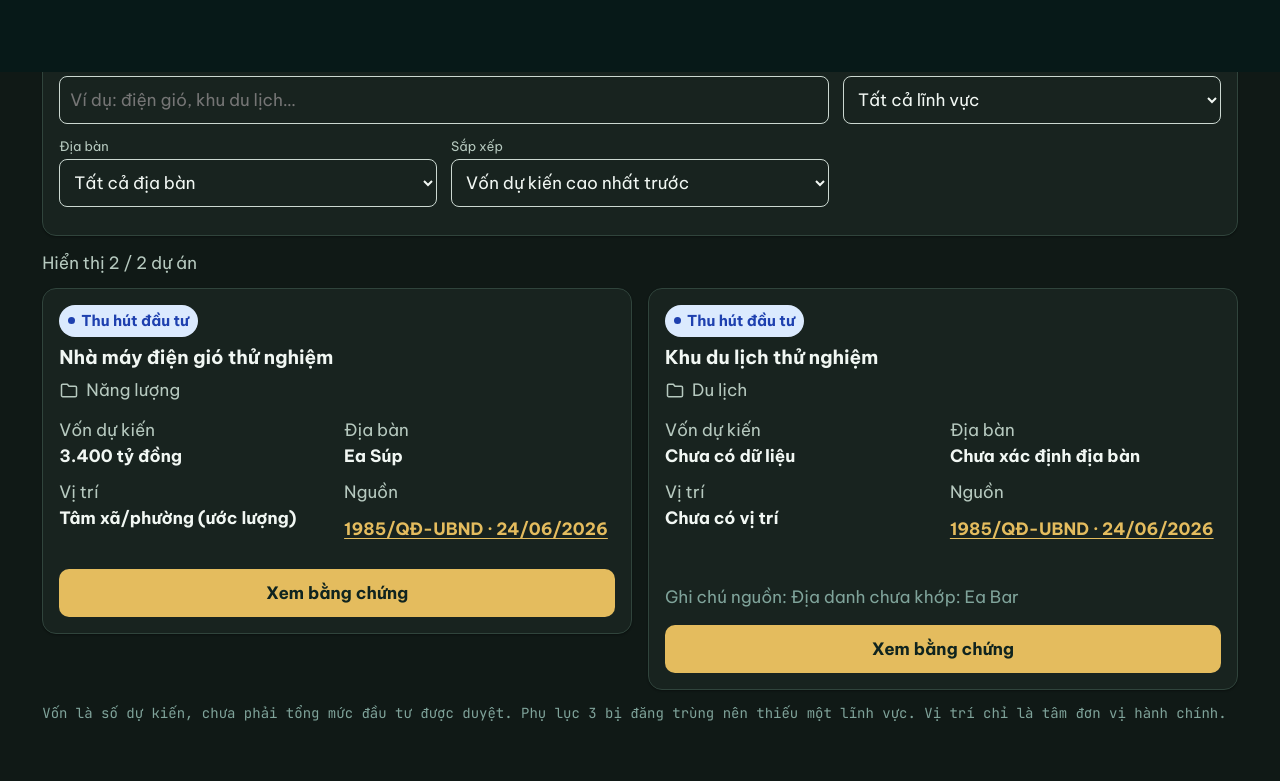
Test: InvestmentCatalogView › bấm "Xem bằng chứng" hiện nguồn, mức bằng chứng và lịch sử thay đổi của từng trường
This screenshot has width=1280, height=781.
(page scrolled)
Click the button "Xem bằng chứng" below "Tâm xã/phường (ước lượng)" at point(337, 593), box [59,569,615,617]
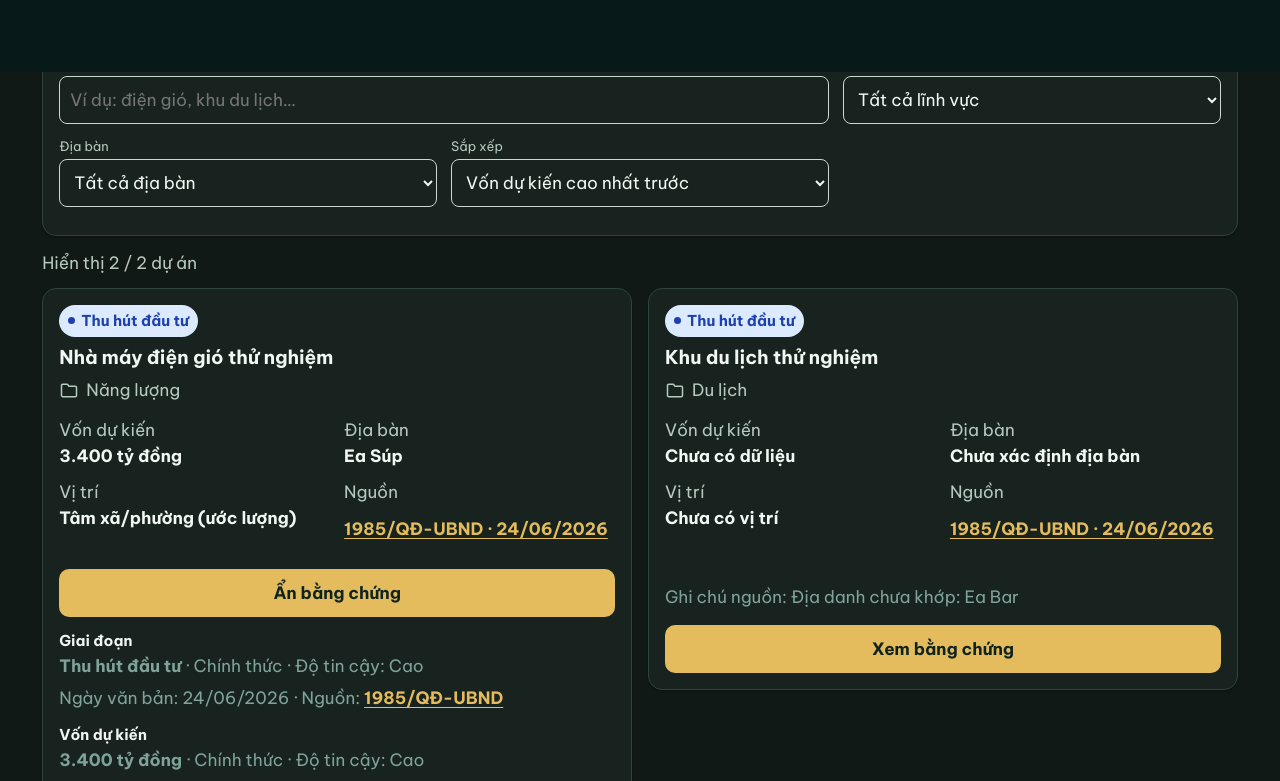
Now the text "Thu hút đầu tư · Chính thức · Độ tin cậy: Cao" is shown, box [59,655,424,677]
Now the button named "Xem bằng chứng" is expanded, box [59,569,615,617]
